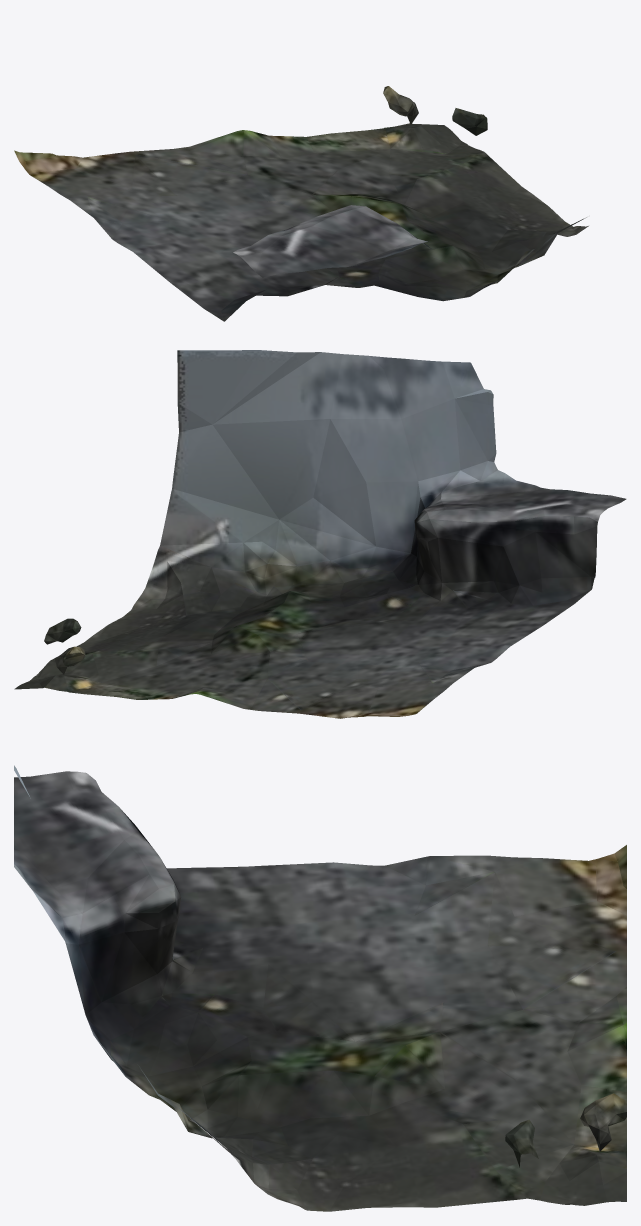
3 renders of one model, top to bottom at view 1: azimuth 30°, elevation 25°; view 2: azimuth 150°, elevation 25°; view 3: azimuth 270°, elevation 25°, orthographic. The views are drawn at different scales.
Bounding box in the file's own units: 1.67 × 0.9333 × 1.67.
3 materials, 3 textured.
